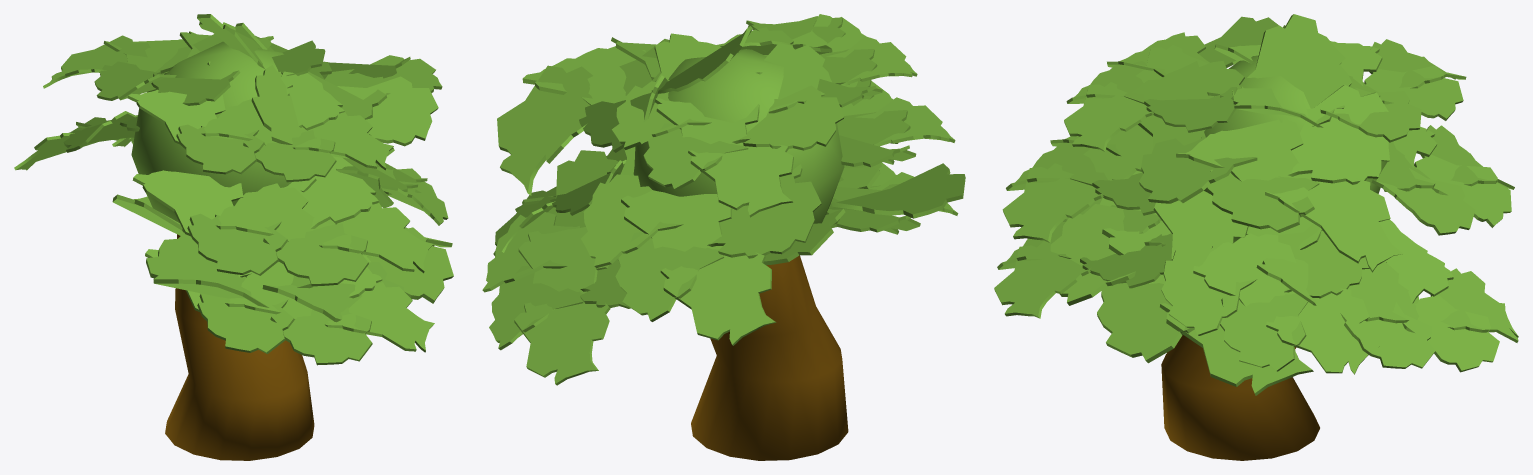
Rendered from Tree.glb.
3 renders of one model, left to right at view 1: azimuth 30°, elevation 25°; view 2: azimuth 150°, elevation 25°; view 3: azimuth 270°, elevation 25°, orthographic. The views are drawn at different scales.
Visible parts, largest first — view 1: Circle.025; view 2: Circle.025; view 3: Circle.025.
Boxes of the visible parts, x1,y1,x2,y2 form: Circle.025: (14, 14, 453, 460); Circle.025: (482, 14, 965, 460); Circle.025: (994, 14, 1518, 460).
Bounding box in the file's own units: 7.92 × 8.5 × 9.82.
